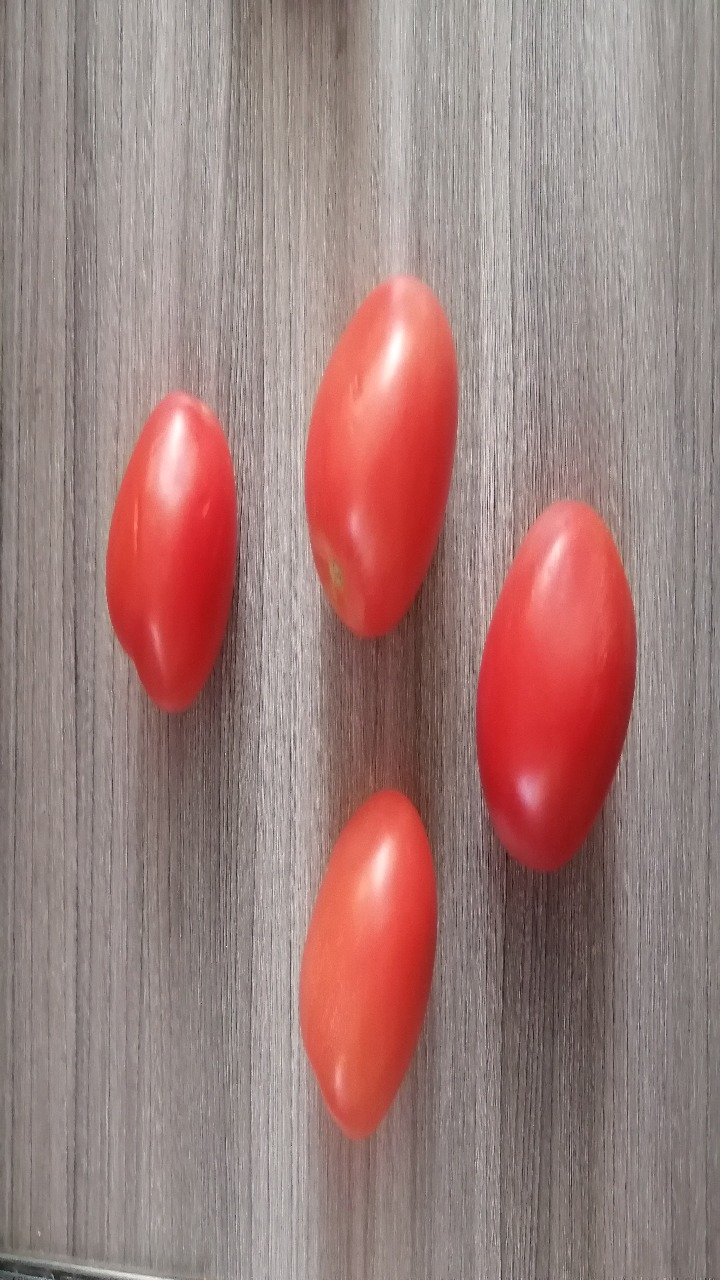tomateRojo: (461, 477, 657, 885), (283, 266, 469, 671), (272, 771, 461, 1154), (66, 379, 249, 722)
